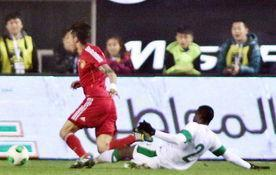Fall-Detected: (96, 100, 266, 171)
